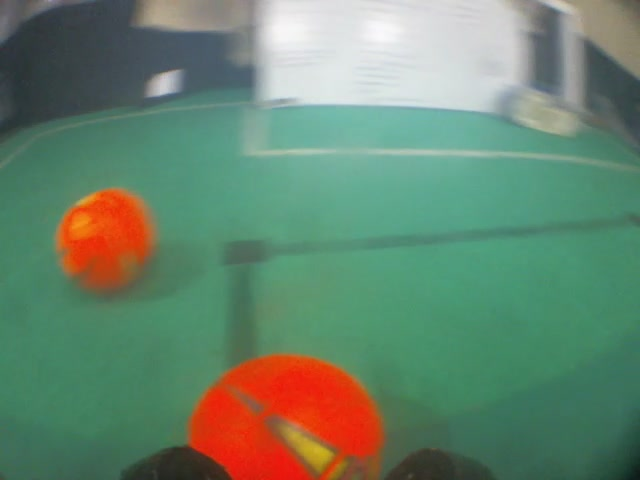ball: (180, 343, 389, 480), (48, 184, 164, 300)
